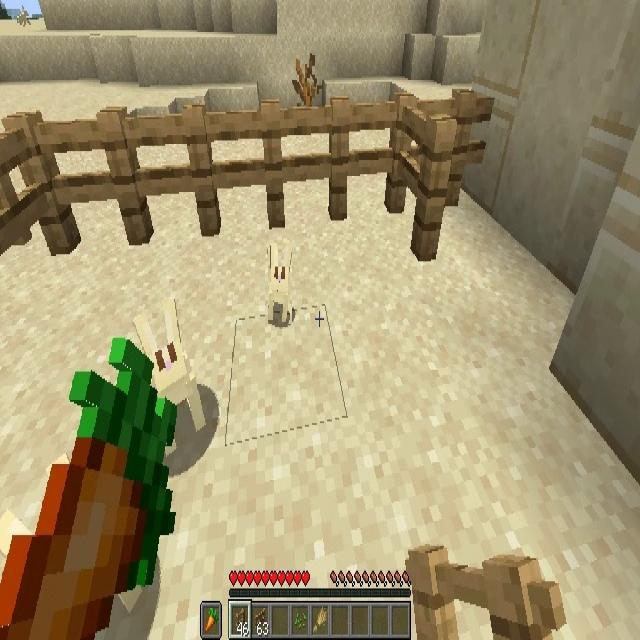rabbit: (142, 298, 198, 422), (268, 243, 292, 324)
